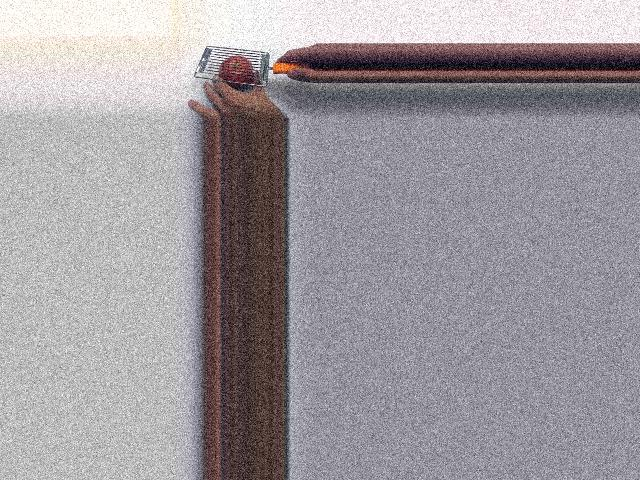tomato: (220, 56, 254, 88)
